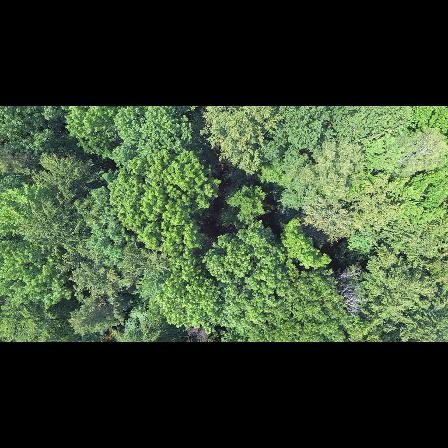Dead: (334, 263, 367, 319)
